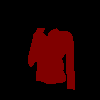polo: (28, 28, 75, 90)
